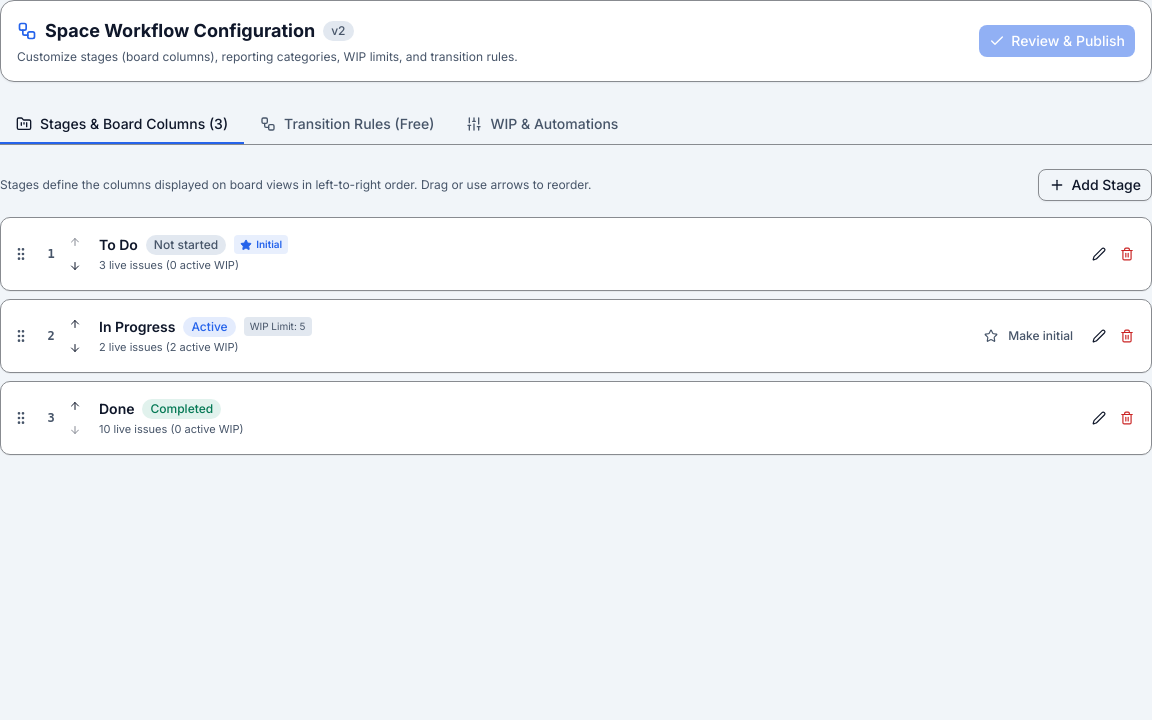
it: <WorkflowEditor> › allows adding a new stage to draft and shows Unsaved Draft badge
Check: the text "To Do" is shown, box x1=99 y1=235 x2=138 y2=255
Step 1. Click the button "Add Stage" → (1095, 185), box x1=1038 y1=169 x2=1151 y2=201
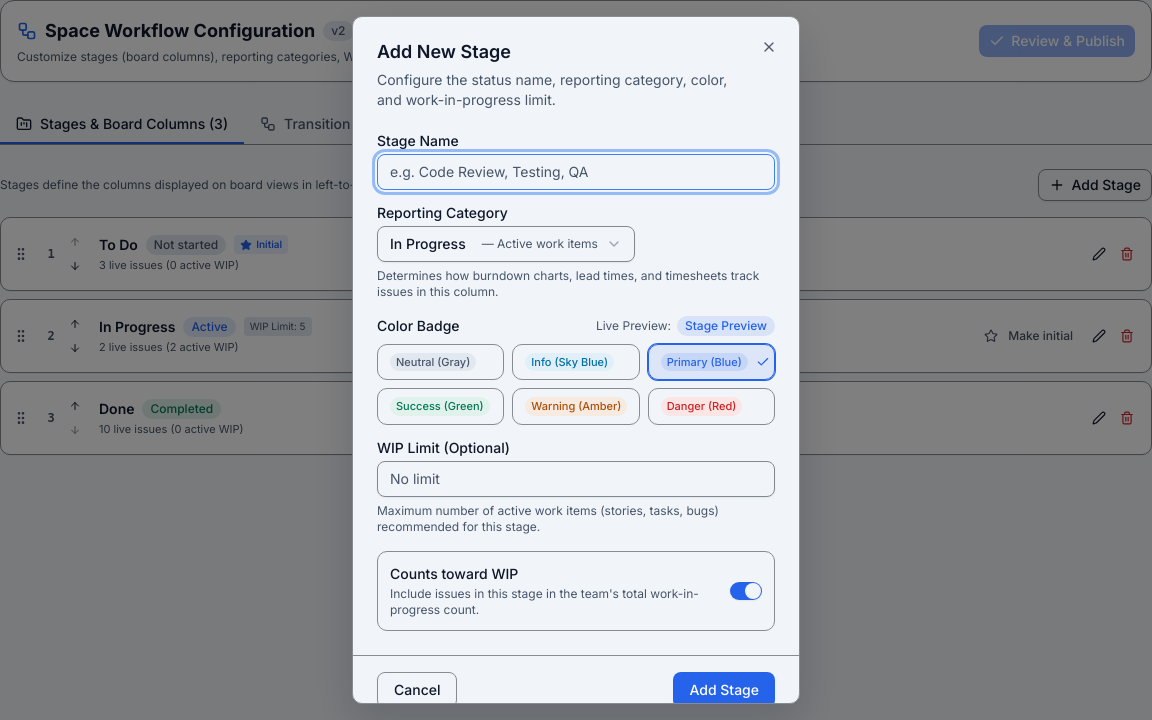
Step 2. Type "QA Verification" into the field labelled "Stage Name" → (576, 172), box x1=377 y1=154 x2=775 y2=190
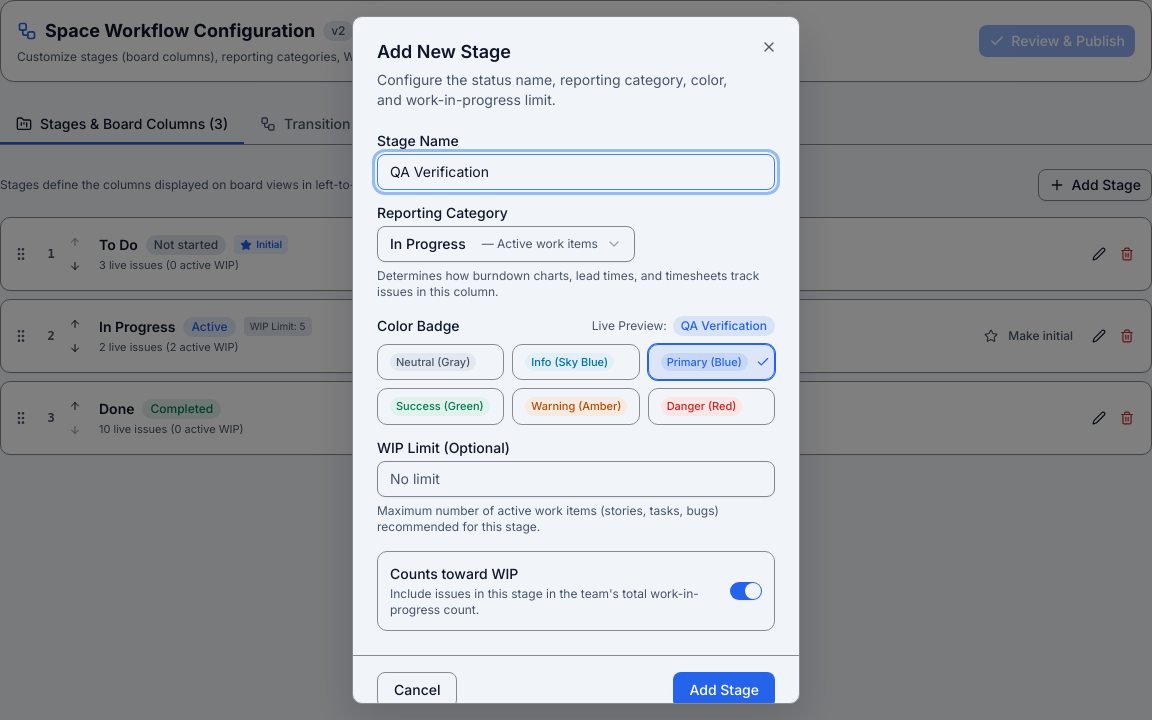
Step 3. Click the button "Add Stage" → (724, 690), box x1=673 y1=672 x2=775 y2=708
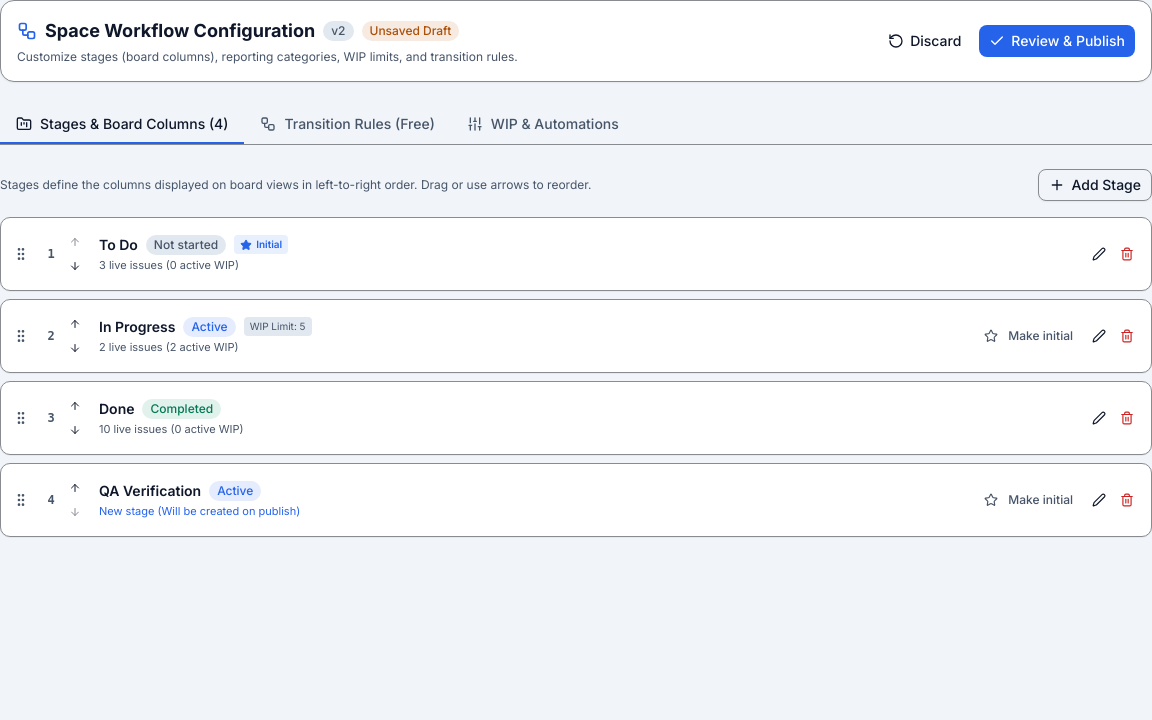
Check: the text "QA Verification" is shown, box x1=99 y1=481 x2=201 y2=501
Check: the text "Unsaved Draft" is shown, box x1=362 y1=21 x2=459 y2=41
